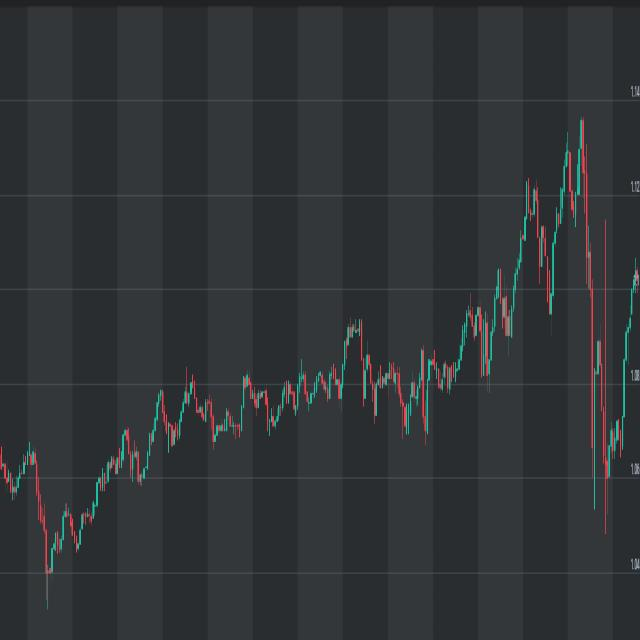Channel-up: (396, 77, 596, 496), (39, 331, 205, 640)
